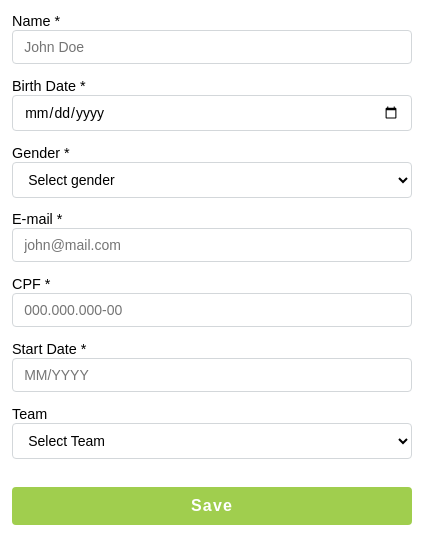
Test: RegistrationForm › should render startDate mask
Type "052021" into the field labelled "Start Date *".
click(212, 375); type("052021")  # box [12,358,412,392]
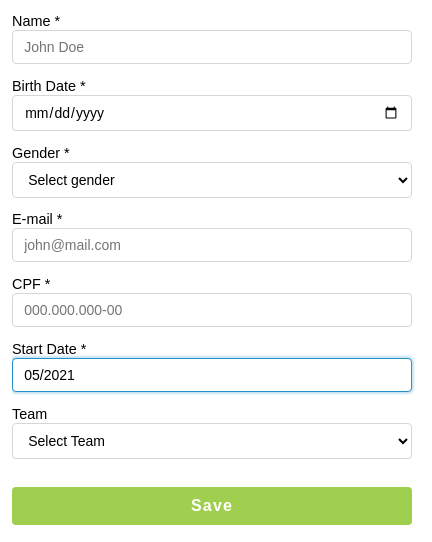
Now the field labelled "Start Date *" holds "05/2021", box [12,358,412,392]
